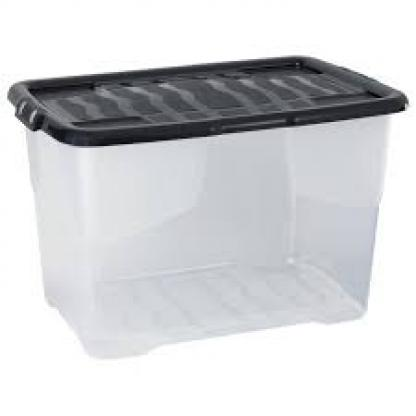plastic_box: (4, 44, 412, 359)
